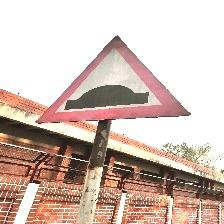Speed-breaker: (37, 35, 190, 122)
